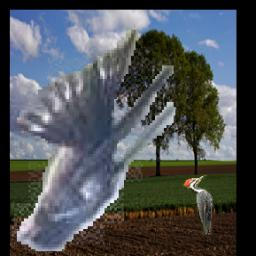Swallow: (12, 24, 176, 251)
Woodpecker: (184, 175, 213, 236)
